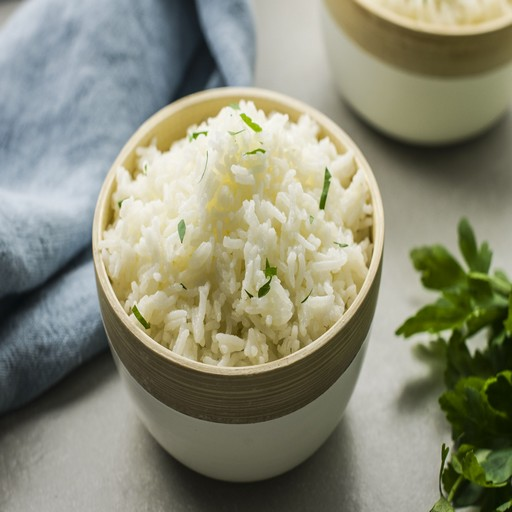rice: (158, 157, 326, 329)
